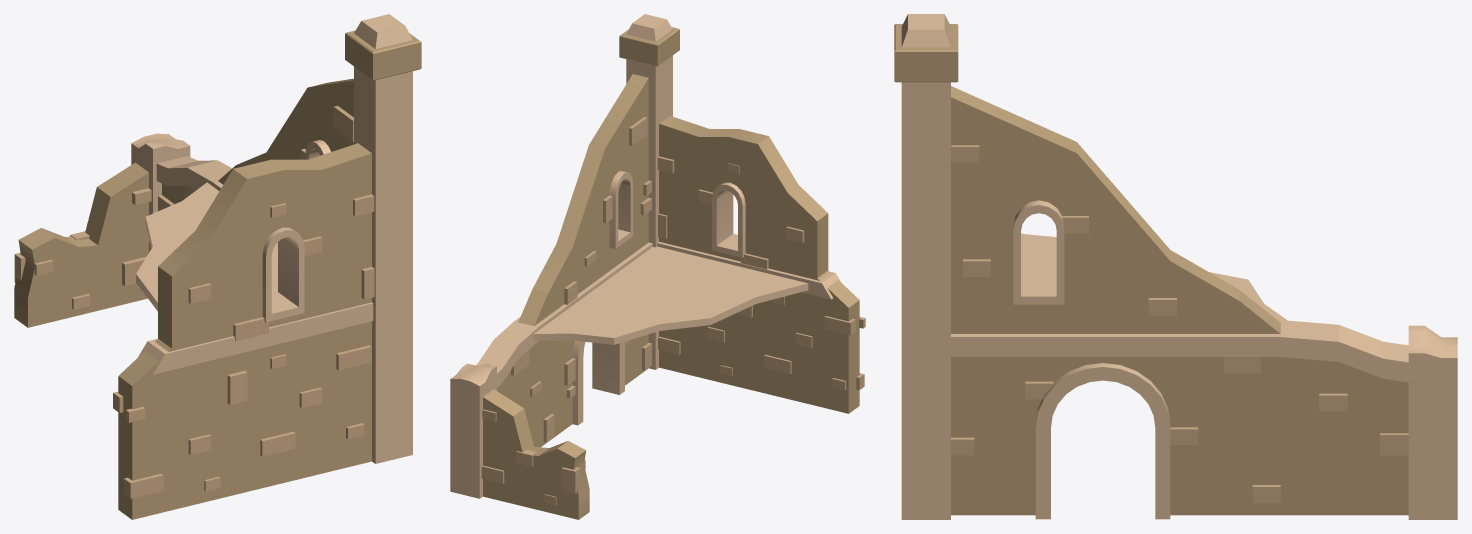
Rendered from Ruin 1.fbx.
3 views of the same model, side by side, from view 1: azimuth 30°, elevation 25°; view 2: azimuth 150°, elevation 25°; view 3: azimuth 270°, elevation 25° (orthographic). The views are drawn at different scales.
Visible parts, largest first — view 1: ruins; view 2: ruins; view 3: ruins.
Part boxes in pixels (x1=…): ruins: x1=14, y1=14, x2=421, y2=519; ruins: x1=450, y1=14, x2=865, y2=519; ruins: x1=894, y1=14, x2=1457, y2=519.
Bounding box in the file's own units: 514 × 729 × 763.
